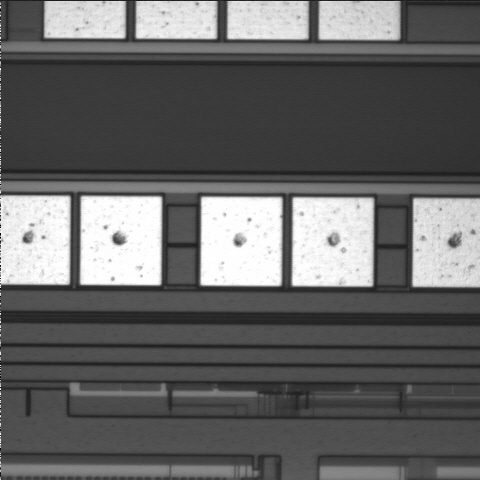pad: (80, 196, 162, 285), (292, 197, 374, 286), (201, 197, 282, 286)
